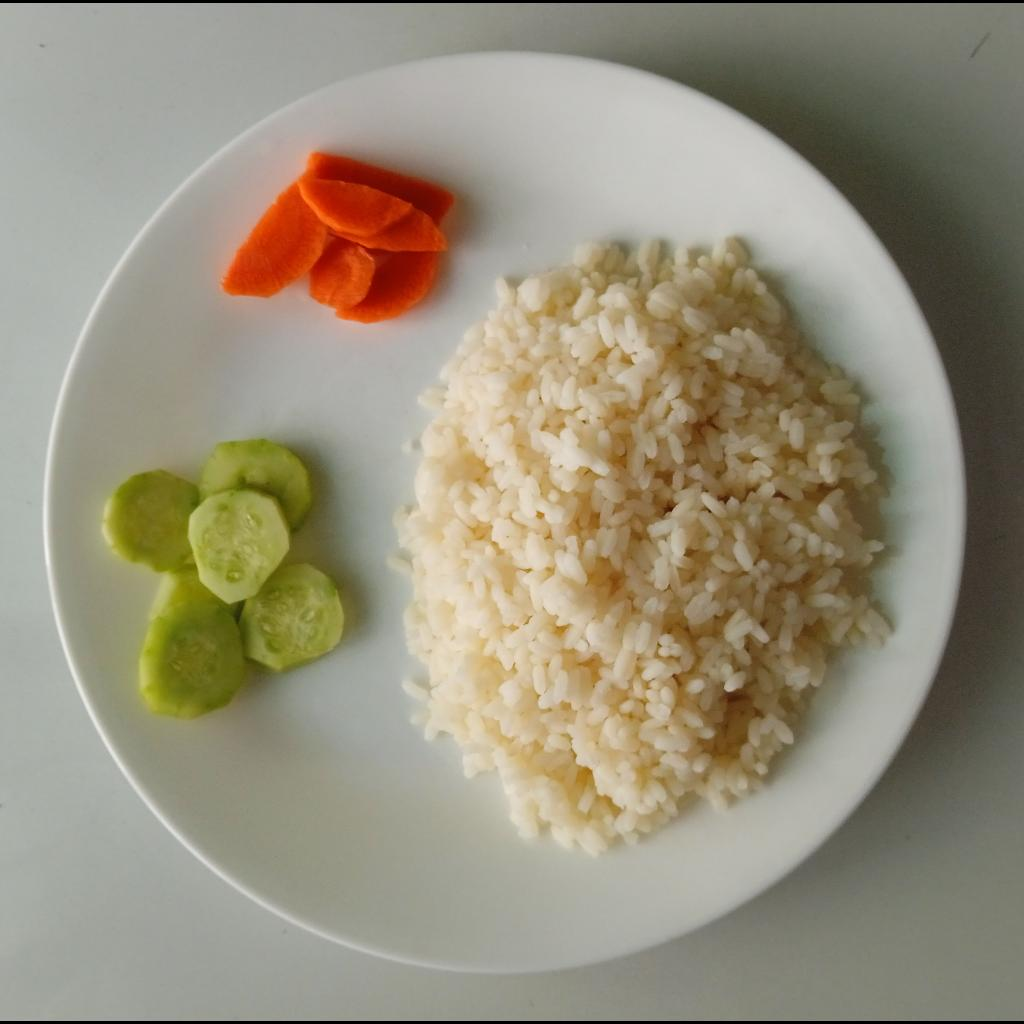carrot: (217, 147, 458, 326)
cucumber: (99, 435, 347, 725)
rice: (384, 236, 891, 857)
